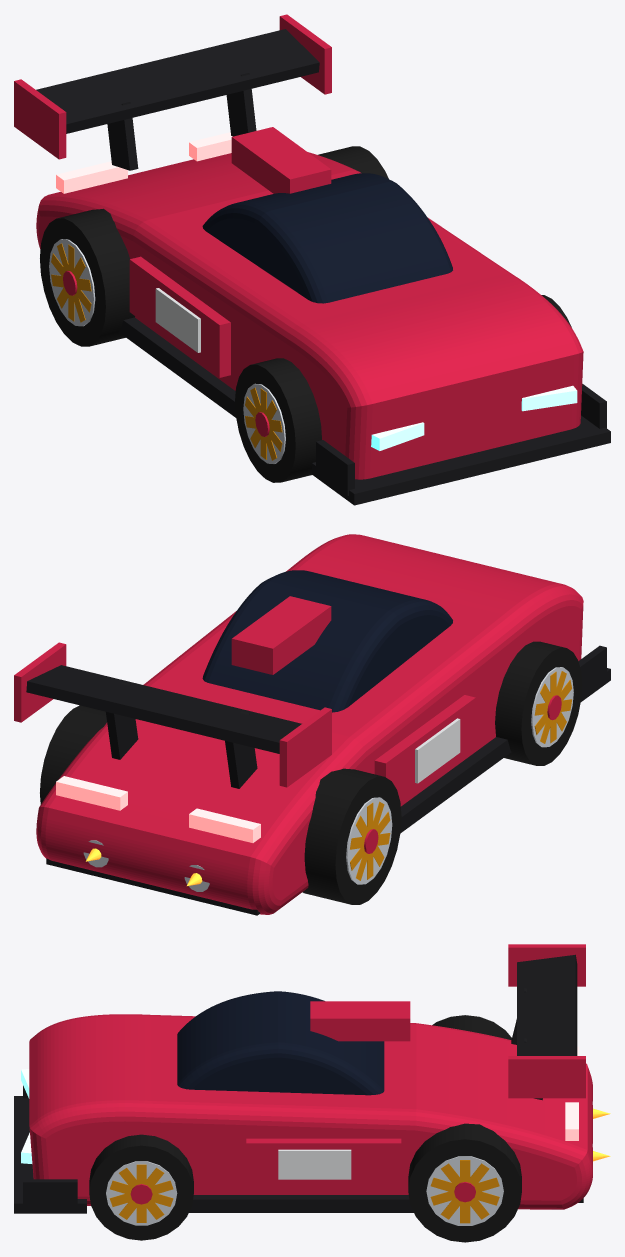
File: car.glb
3 renders of one model, top to bottom at view 1: azimuth 30°, elevation 25°; view 2: azimuth 150°, elevation 25°; view 3: azimuth 270°, elevation 25°, orthographic. The views are drawn at different scales.
Parts seen in each view (by area): view 1: RaceCar; view 2: RaceCar; view 3: RaceCar.
Part boxes in pixels (x1=…): RaceCar: x1=14, y1=14, x2=610, y2=505; RaceCar: x1=14, y1=534, x2=610, y2=915; RaceCar: x1=14, y1=944, x2=610, y2=1242.
Size of the model in its own units: 0.661 by 0.4325 by 1.31.
